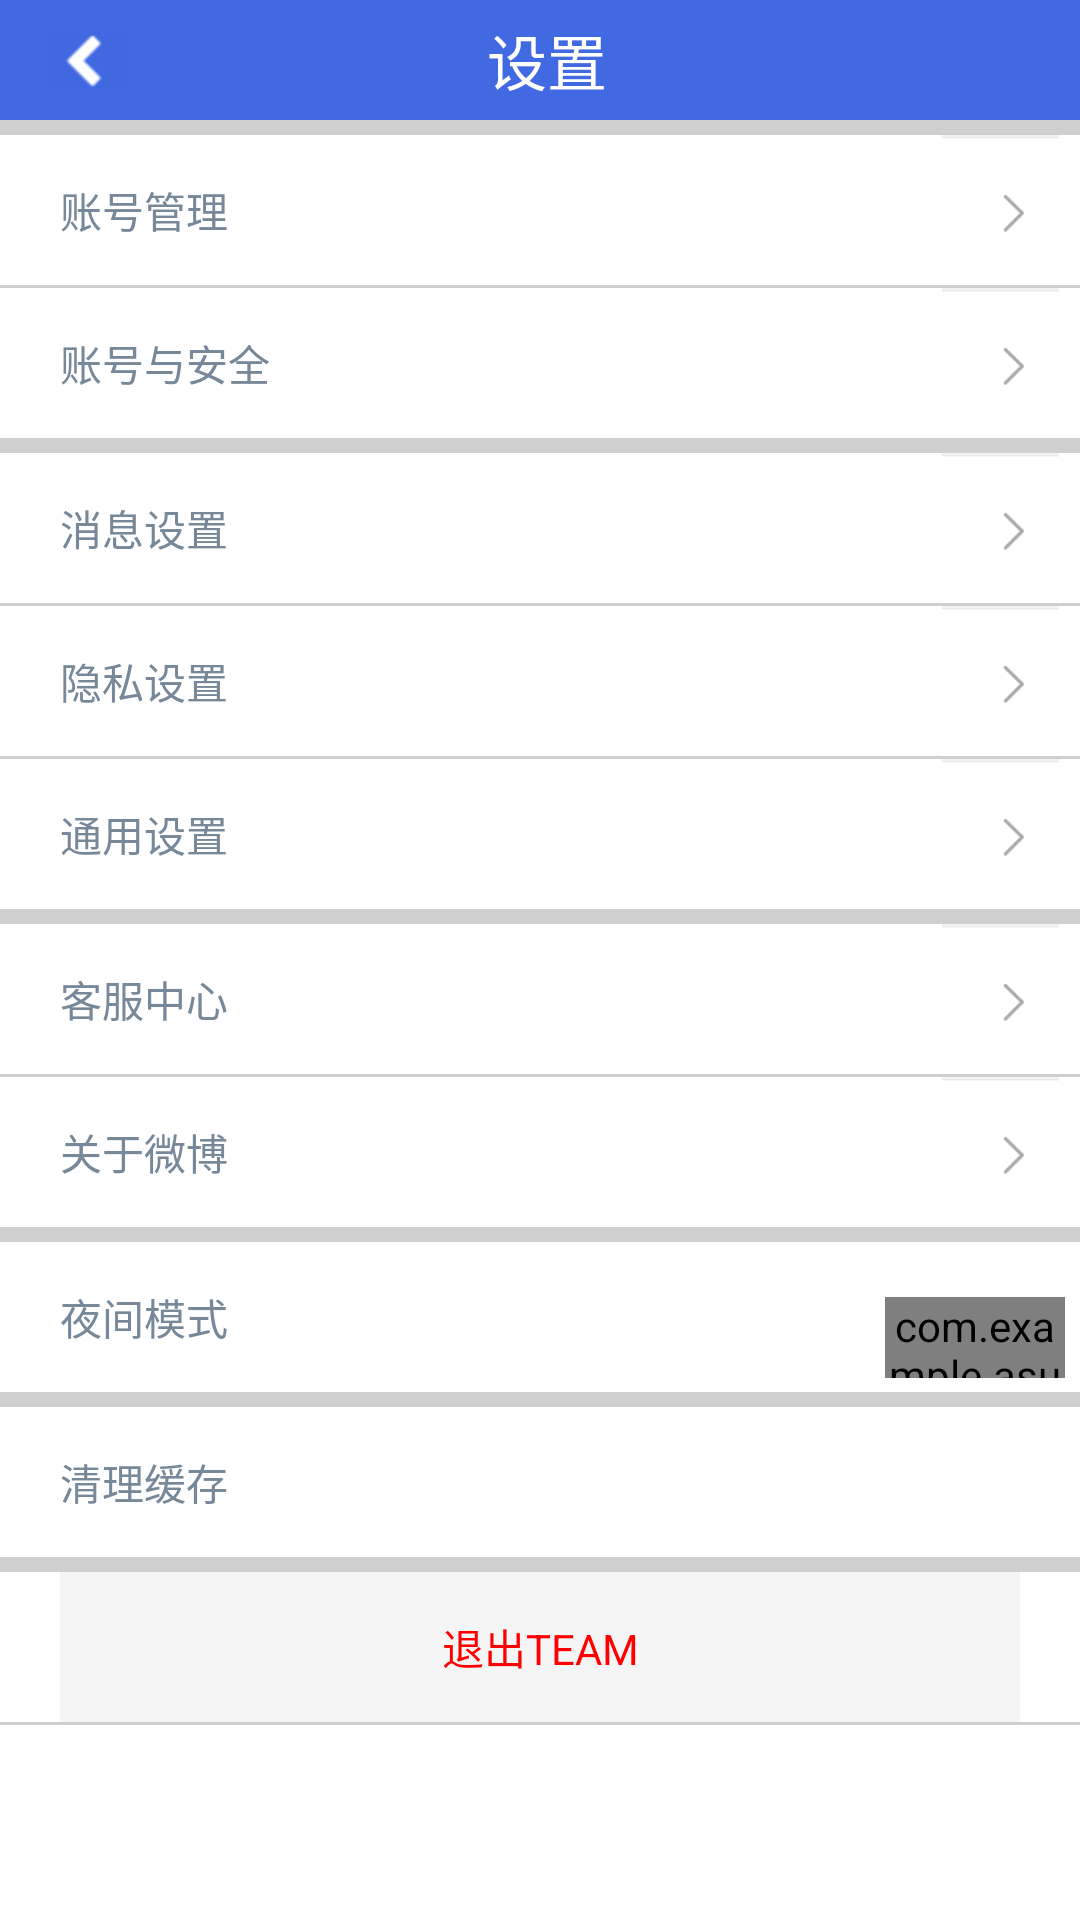

Icon bounding boxes for this 1080 × 1920 phone screenshot, format bbox(x1, y1, x2, y2):
backward: bbox(67, 35, 101, 87)
jiantou: bbox(1004, 195, 1024, 232), bbox(1004, 348, 1024, 385), bbox(1004, 513, 1024, 550), bbox(1004, 666, 1024, 703), bbox(1004, 819, 1024, 856), bbox(1004, 984, 1024, 1021), bbox(1004, 1137, 1024, 1174)
